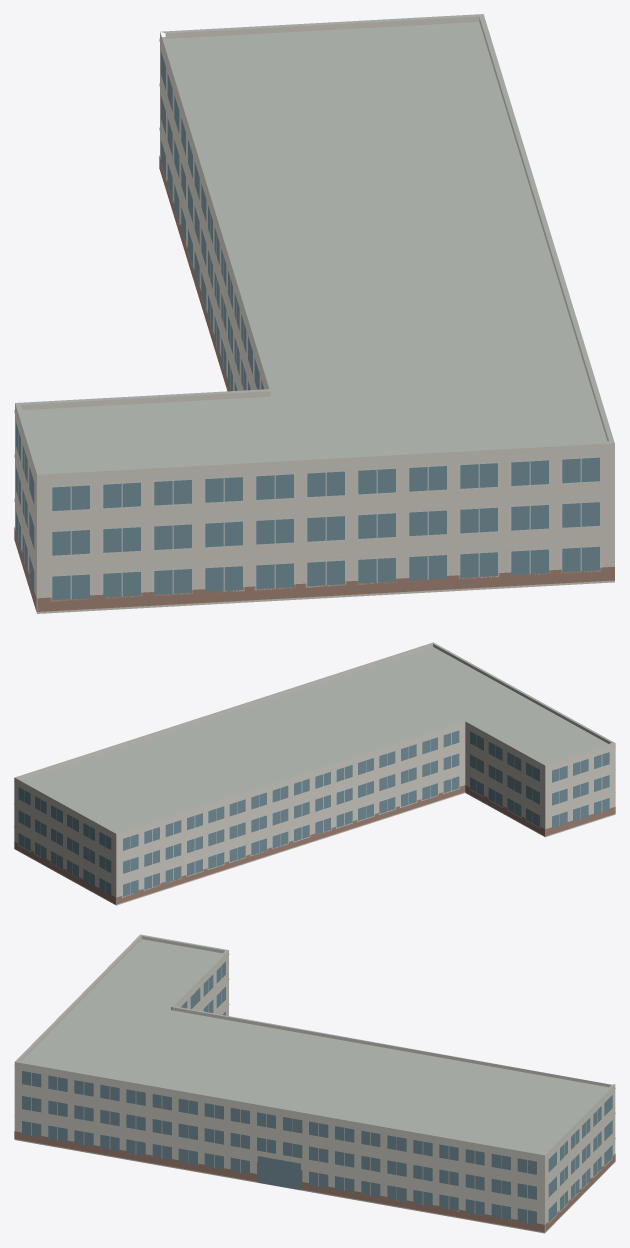
File: public-f60c9028-8f85-43c1-b8ad-85805fa0e097.glb
3 renders of one model, top to bottom at view 1: azimuth 30°, elevation 25°; view 2: azimuth 150°, elevation 25°; view 3: azimuth 270°, elevation 25°, orthographic. The views are drawn at different scales.
Visible parts, largest first — view 1: public-f60c9028-8f85-43c1-b8ad-85805fa0e097; view 2: public-f60c9028-8f85-43c1-b8ad-85805fa0e097; view 3: public-f60c9028-8f85-43c1-b8ad-85805fa0e097.
Boxes of the visible parts, x1=… form: public-f60c9028-8f85-43c1-b8ad-85805fa0e097: x1=14, y1=14, x2=614, y2=613; public-f60c9028-8f85-43c1-b8ad-85805fa0e097: x1=14, y1=642, x2=615, y2=905; public-f60c9028-8f85-43c1-b8ad-85805fa0e097: x1=14, y1=934, x2=615, y2=1233.
Bounding box in the file's own units: 55.64 × 9.15 × 63.92.
